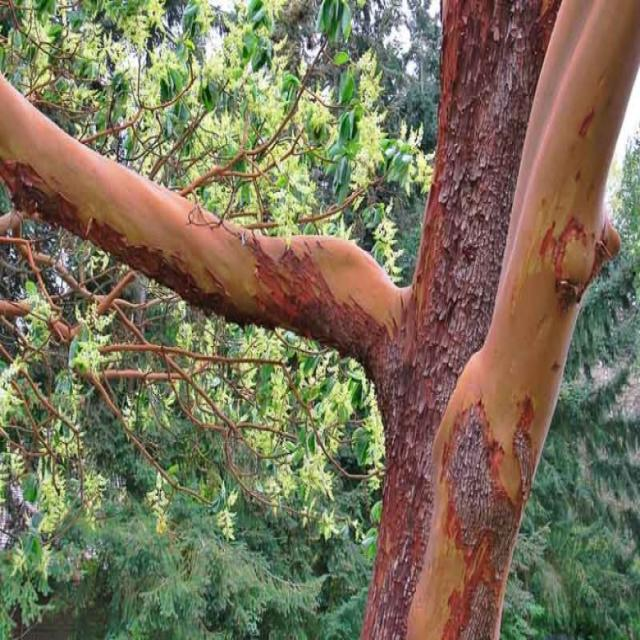Arbutus menziesii: (1, 0, 640, 640)
